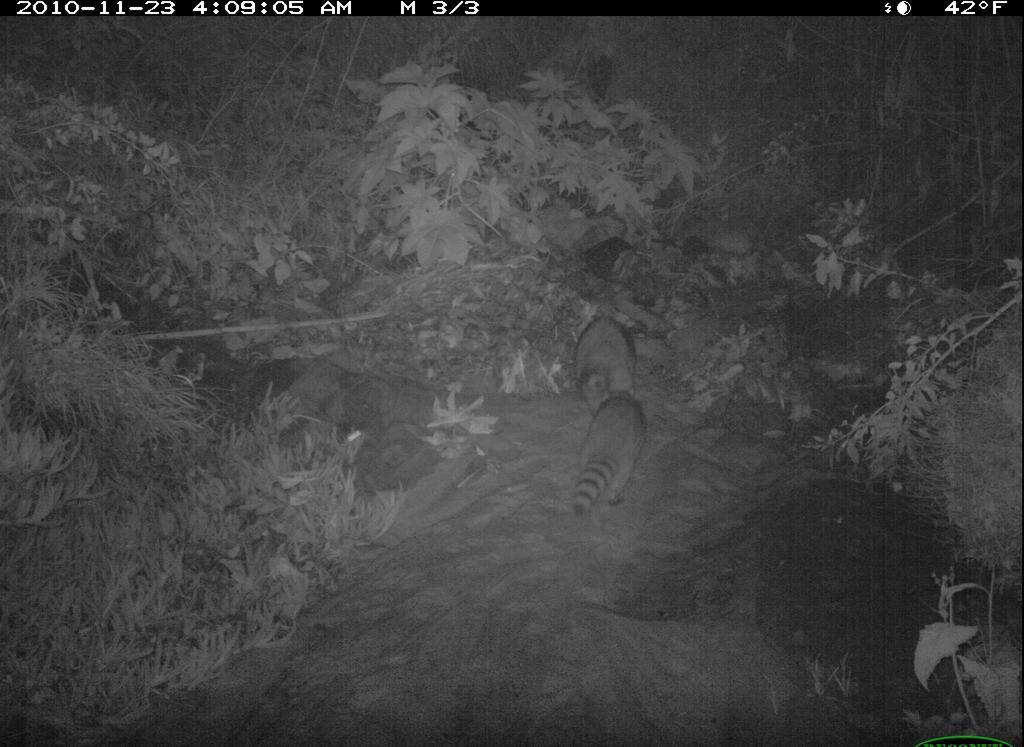raccoon: (562, 390, 649, 519), (567, 308, 642, 422)
